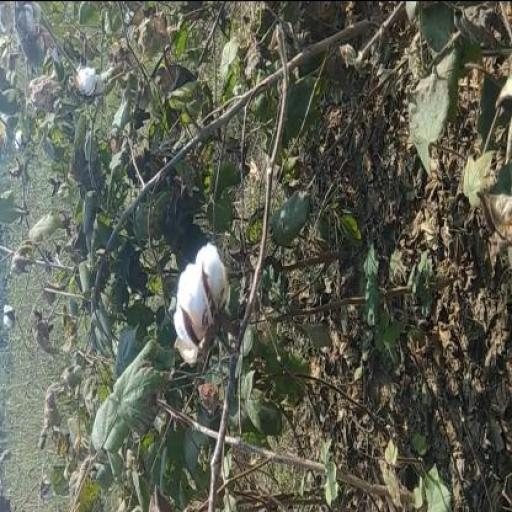cotton_ready: (166, 224, 252, 378)
